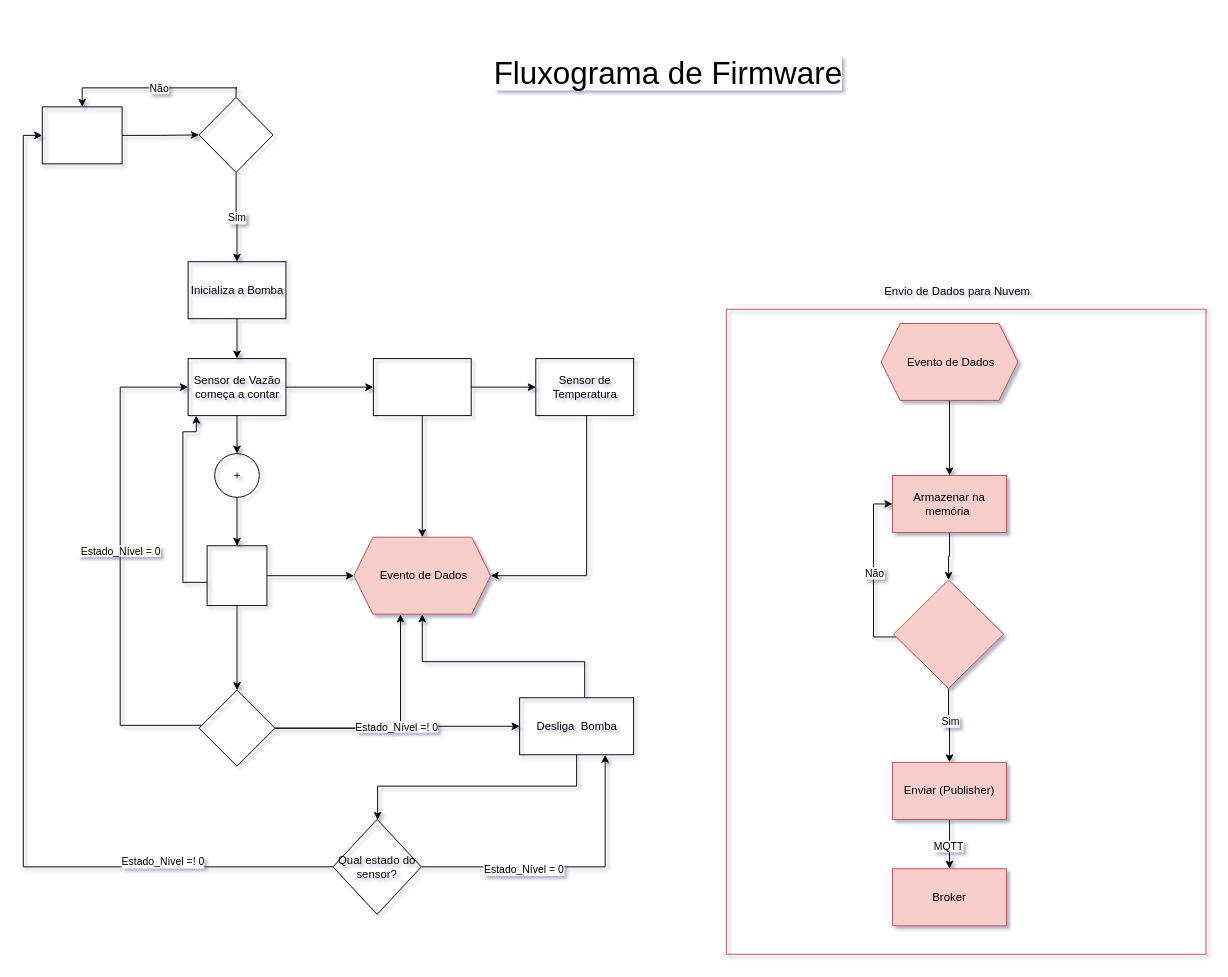
This 1228x977 diagram has some shape labels left out. The shapes that lost their labels are listed below. From the top down, each one's box as (x1, y1, x2, y2) in pixels, then its label:
(41, 106, 122, 164): Inicialização do sistema
(198, 96, 273, 172): Tensão na bateria?
(372, 358, 471, 416): Sensor de PH
(206, 545, 267, 606): Litros
(893, 579, 1004, 688): Pacote de dados cheio?
(198, 689, 275, 766): Sensor de Nível
